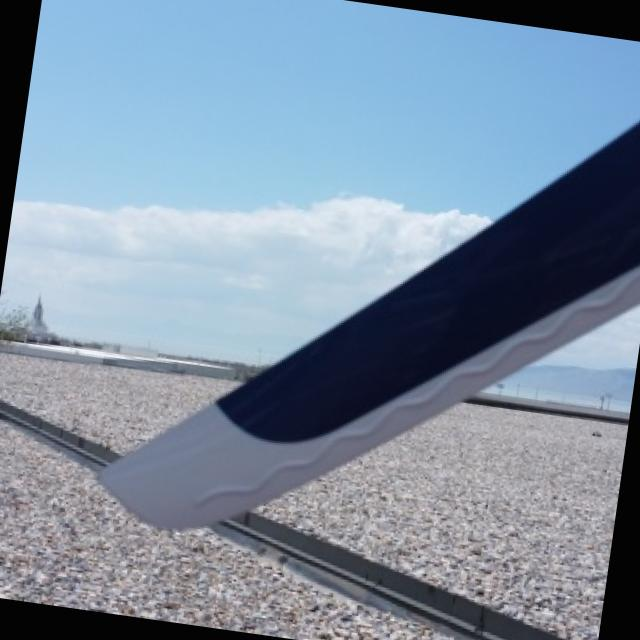healthy: (98, 117, 640, 527), (0, 429, 431, 640)
